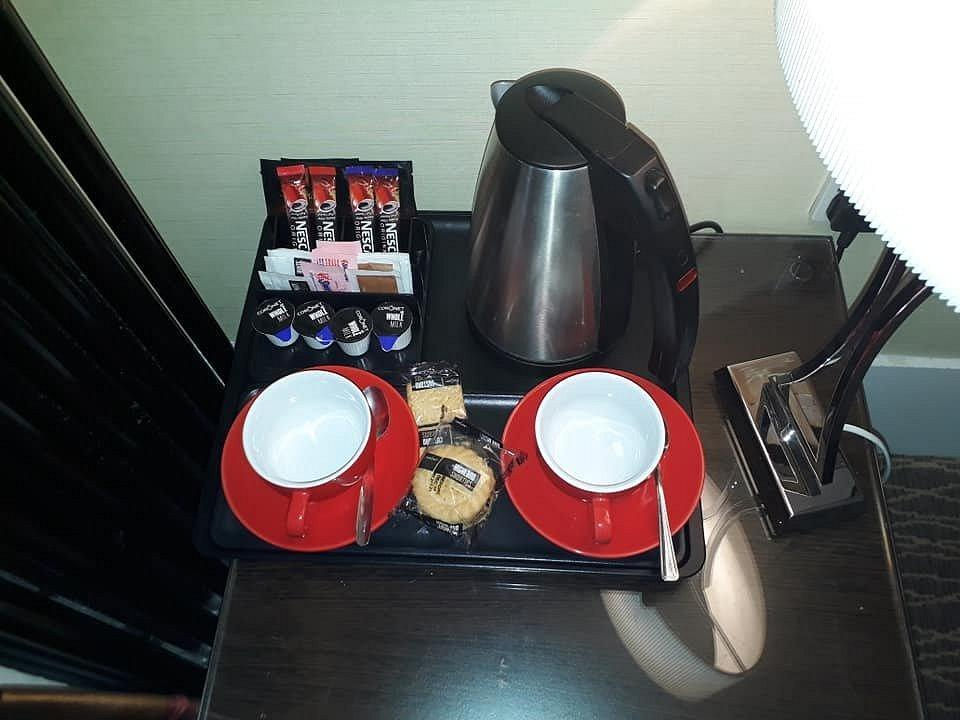organized table: (257, 128, 920, 720)
